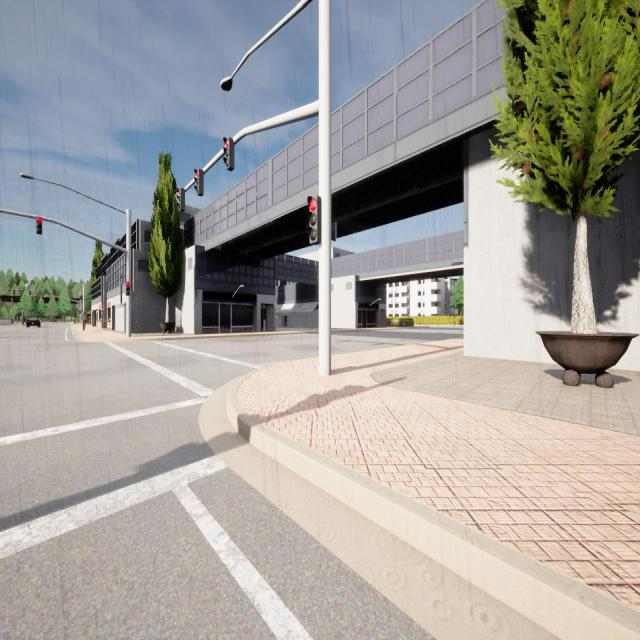Pedestrian: (82, 311, 87, 331), (22, 314, 25, 326)
Vehicle: (26, 316, 41, 327)
traffic_light: (307, 196, 321, 245), (223, 137, 235, 171), (194, 168, 203, 196), (176, 187, 185, 212), (36, 217, 42, 234), (126, 282, 130, 296), (29, 290, 31, 296), (13, 290, 15, 294), (58, 296, 59, 301), (32, 296, 33, 300), (44, 296, 45, 300), (80, 296, 81, 300), (81, 295, 82, 298)
